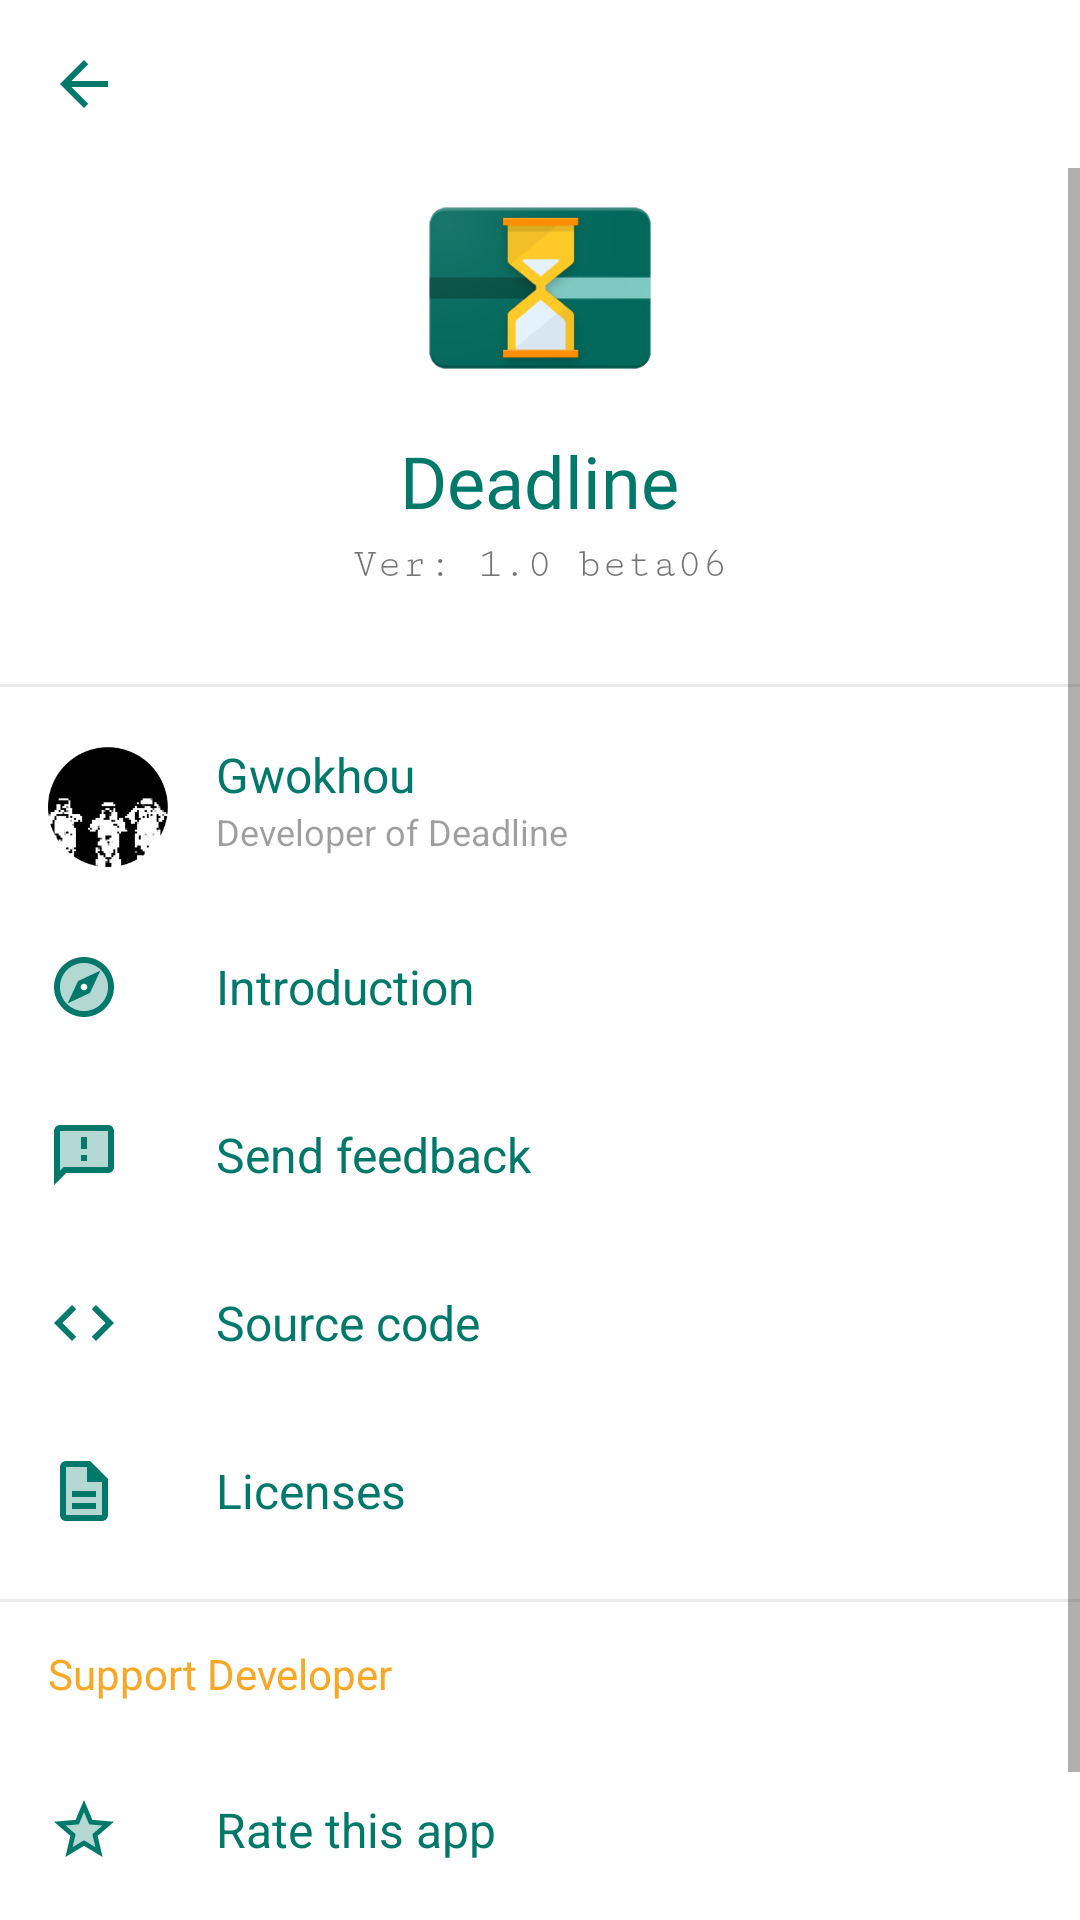

Where icons sit on this 1080 × 1920 app screen, as (x1, y1, x2, y2):
stars: (54, 1800, 114, 1857)
